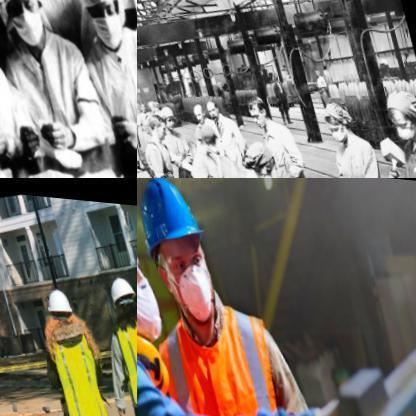vest: (152, 287, 332, 415), (137, 322, 242, 415), (41, 310, 111, 415), (107, 301, 136, 408)
